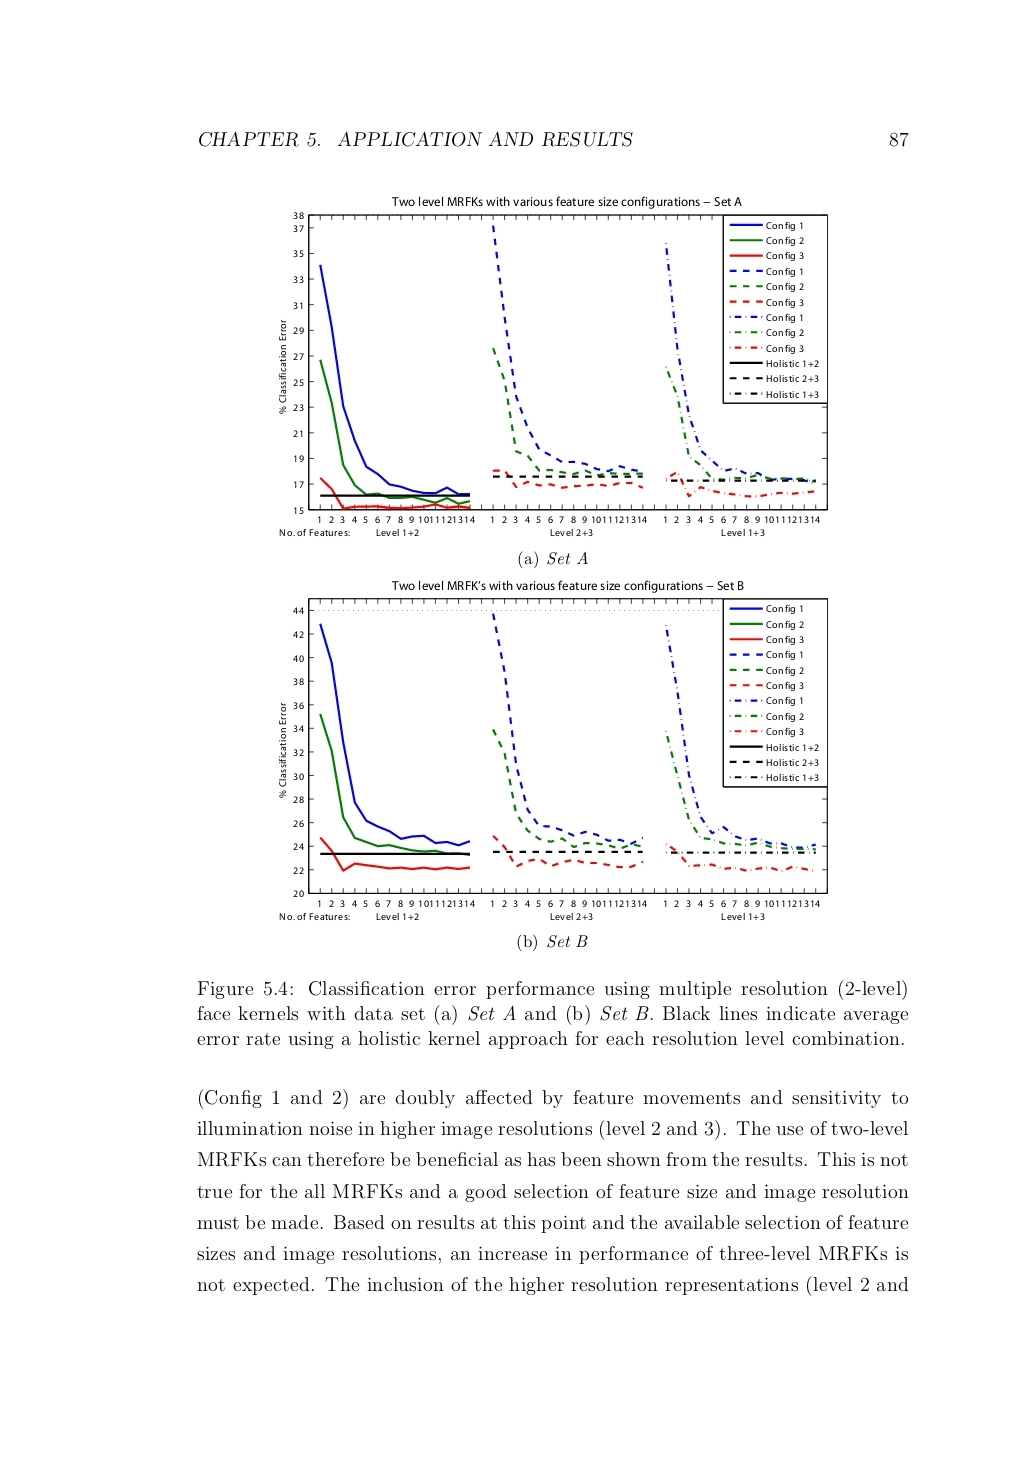figure: (278, 207, 827, 535), (278, 598, 827, 919)
